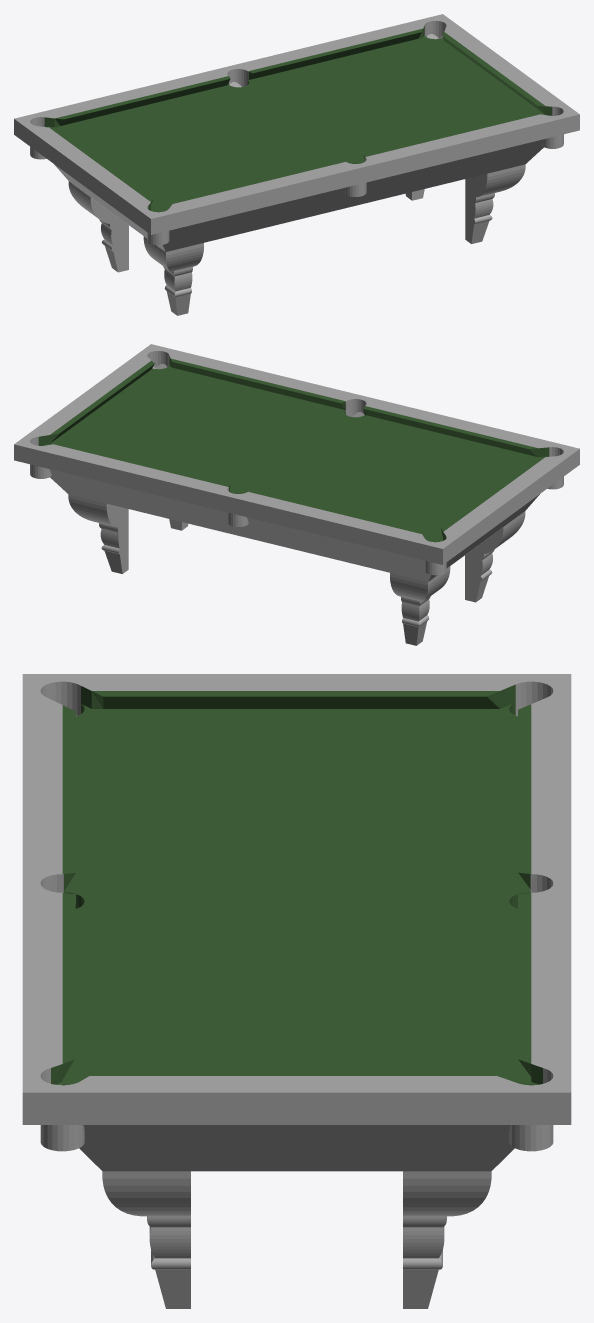
File: original_shape.glb
3 views of the same model, one above another, from view 1: azimuth 30°, elevation 25°; view 2: azimuth 150°, elevation 25°; view 3: azimuth 270°, elevation 25° (orthographic). The views are drawn at different scales.
Parts seen in each view (by area): view 1: world; view 2: world; view 3: world.
Boxes of the visible parts, <box> form: world: <box>14,14,579,315</box>; world: <box>14,344,579,645</box>; world: <box>22,674,571,1308</box>.
Size of the model in its own units: 0.8448 by 0.2602 by 0.4676.
Materials: 1 (1 with a texture image).
